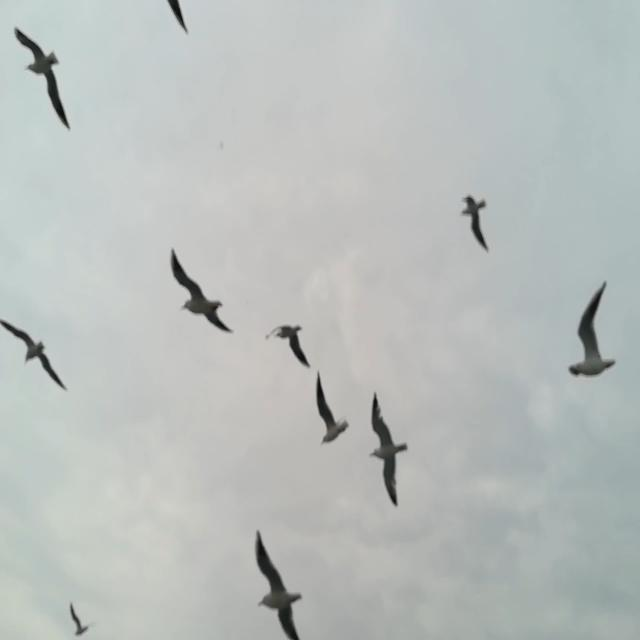bird: (14, 27, 71, 131), (169, 247, 236, 335), (255, 532, 304, 640), (1, 319, 70, 392), (367, 389, 408, 508), (567, 281, 617, 377), (315, 370, 350, 449), (265, 323, 312, 370), (460, 196, 490, 252), (166, 0, 190, 36), (70, 602, 90, 637)
